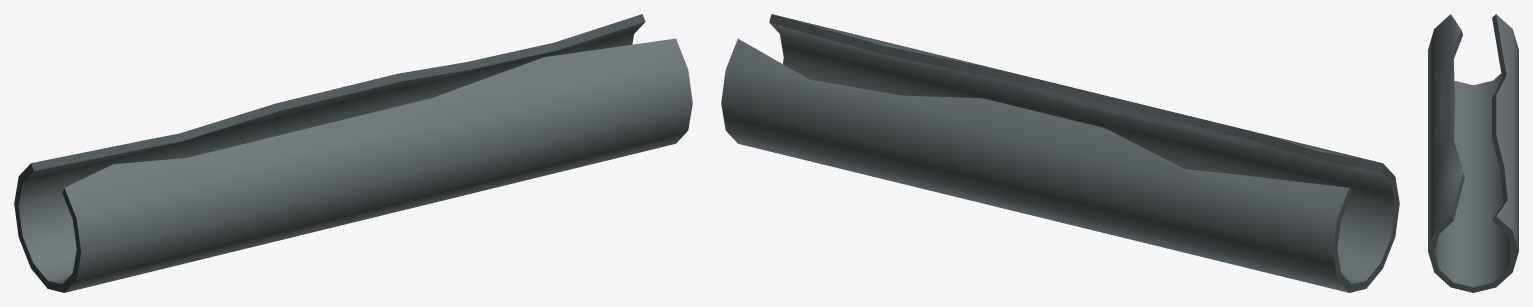
File: Pipe.FBX
The picture shows the model from 3 angles, left to right: view 1: azimuth 30°, elevation 25°; view 2: azimuth 150°, elevation 25°; view 3: azimuth 270°, elevation 25°; orthographic projection. The views are drawn at different scales.
Visible parts, largest first — view 1: Pipe; view 2: Pipe; view 3: Pipe.
Boxes of the visible parts, box(x1,y1,x2,y2) form: Pipe: box(14, 14, 692, 292); Pipe: box(721, 14, 1399, 292); Pipe: box(1428, 14, 1518, 292).
Size of the model in its own units: 10.53 by 1.94 by 2.
1 material, 1 textured.
